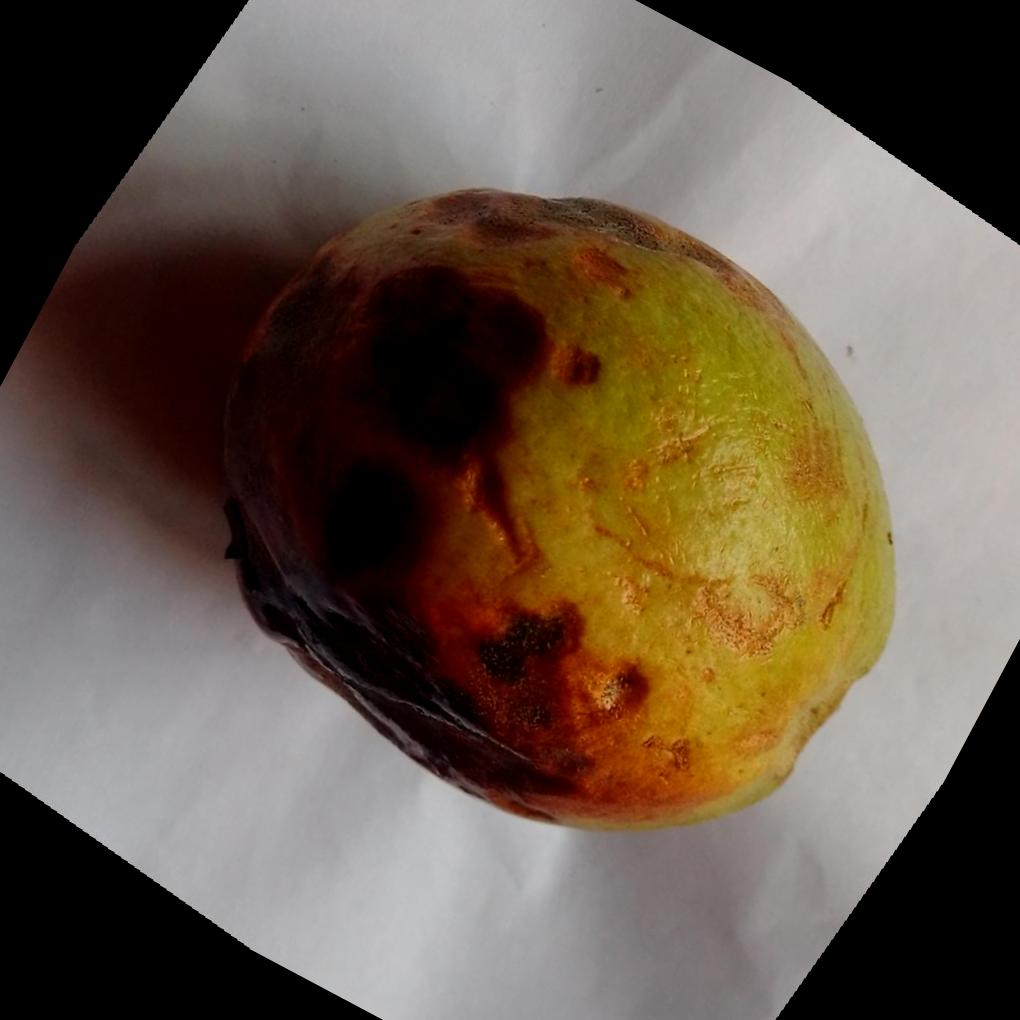FreshOrange: (217, 182, 899, 832)
